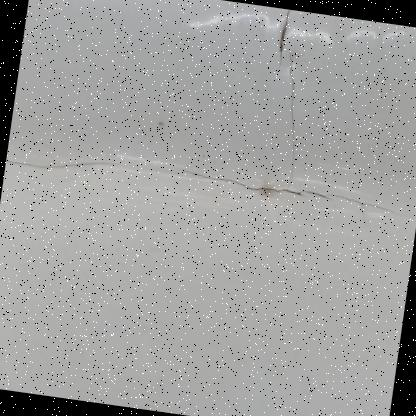Crack: (1, 18, 410, 250), (259, 7, 312, 75)
